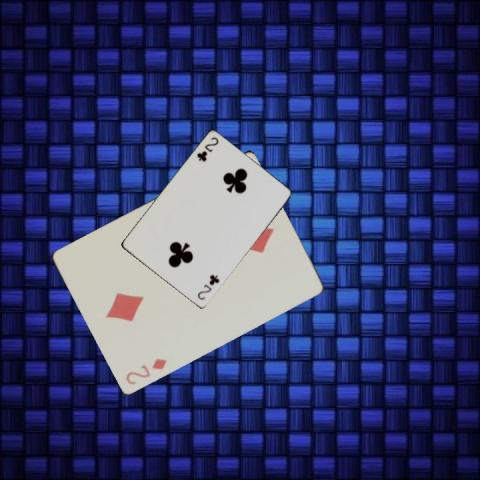2c: (194, 272, 221, 302), (194, 134, 220, 163)
2d: (122, 355, 168, 386)
